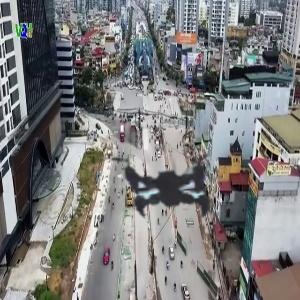drone: (59, 72, 279, 292)
